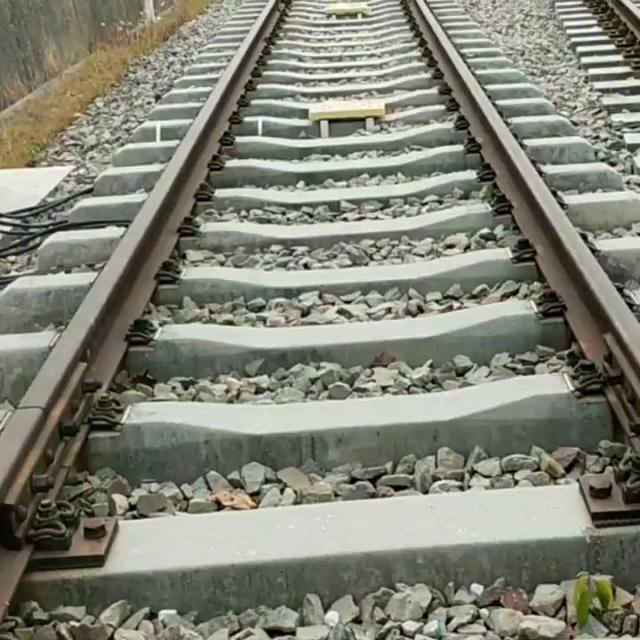rail: (0, 0, 283, 620), (410, 0, 640, 444)
